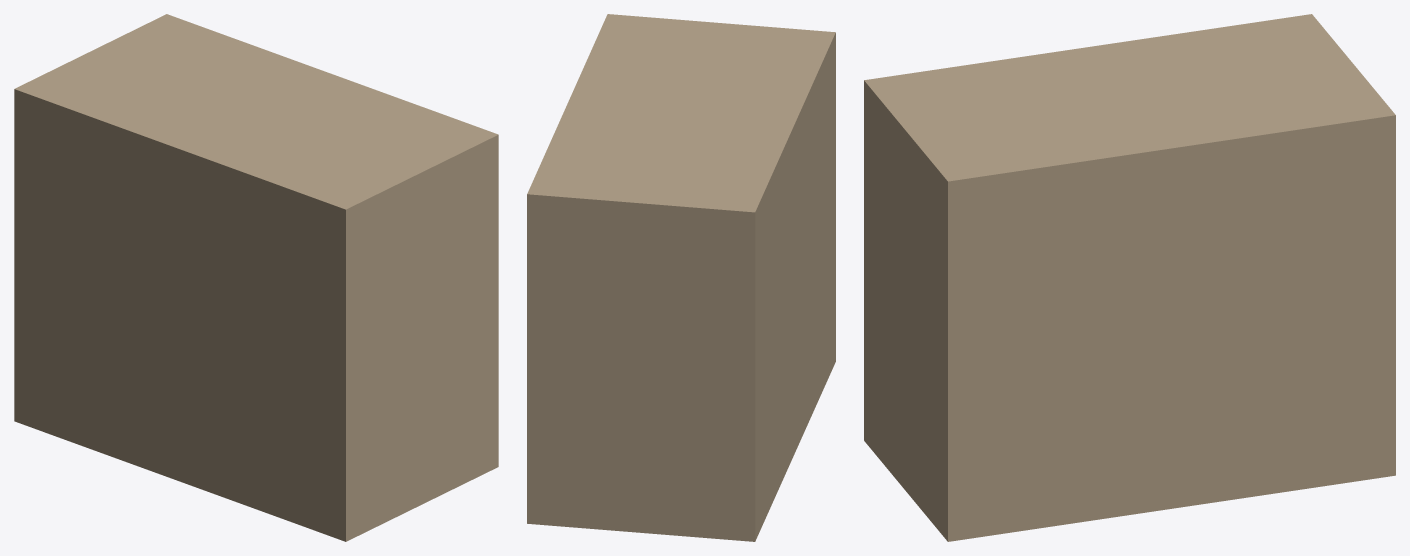
File: bld_100469726.dae
The picture shows the model from 3 angles, left to right: view 1: azimuth 30°, elevation 25°; view 2: azimuth 150°, elevation 25°; view 3: azimuth 270°, elevation 25°; orthographic projection. The views are drawn at different scales.
Parts seen in each view (by area): view 1: bld_100469726; view 2: bld_100469726; view 3: bld_100469726.
Boxes of the visible parts, box(x1,y1,x2,y2) form: bld_100469726: box(14, 14, 498, 541); bld_100469726: box(527, 14, 835, 541); bld_100469726: box(864, 14, 1395, 541).
Size of the model in its own units: 7.98 by 10.7 by 8.
